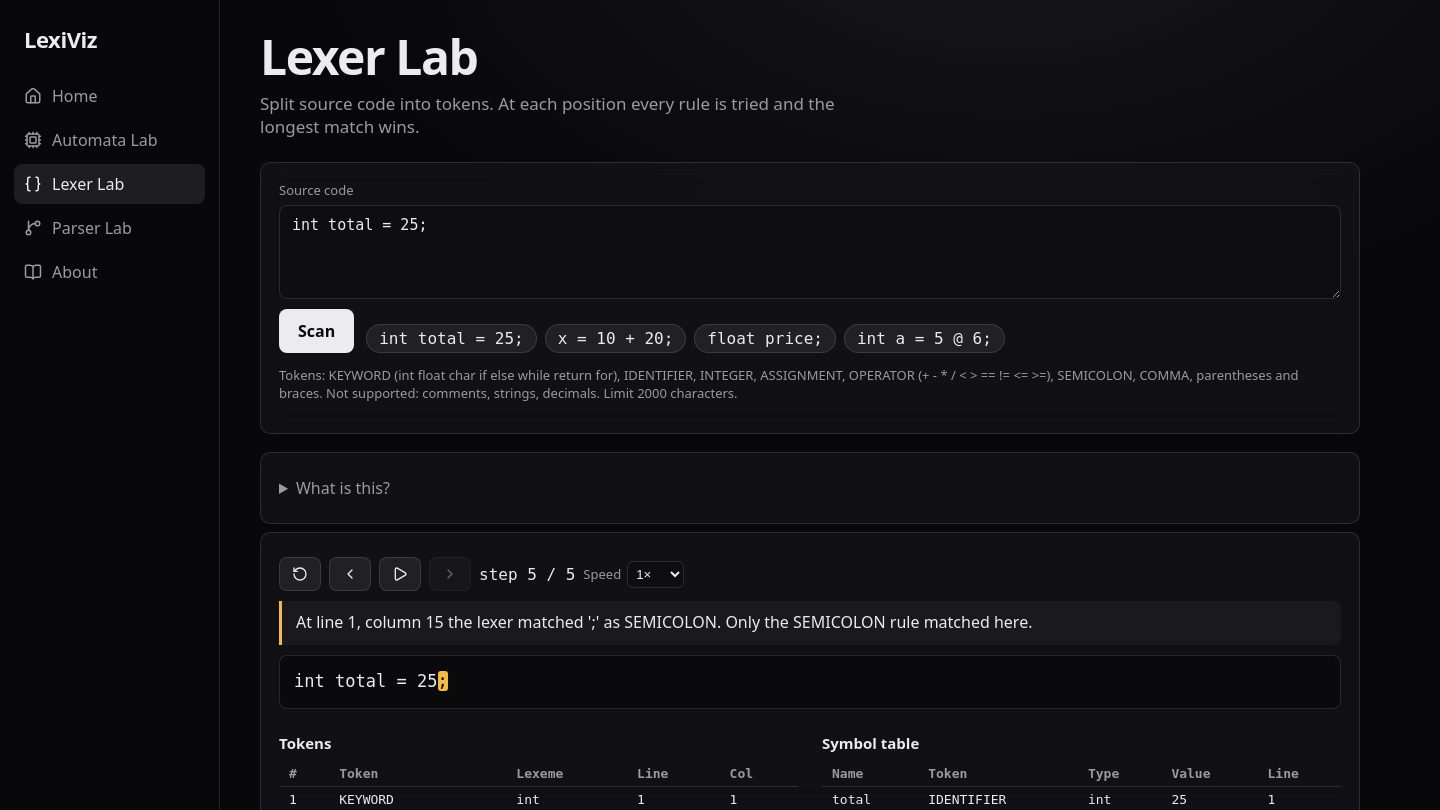
Test case: Lexer Lab › empty source shows a helpful message
The image size is (1440, 810).
Clear the text box labelled "Source code" at (810,252), box top-left (279, 205), bottom-right (1341, 299)
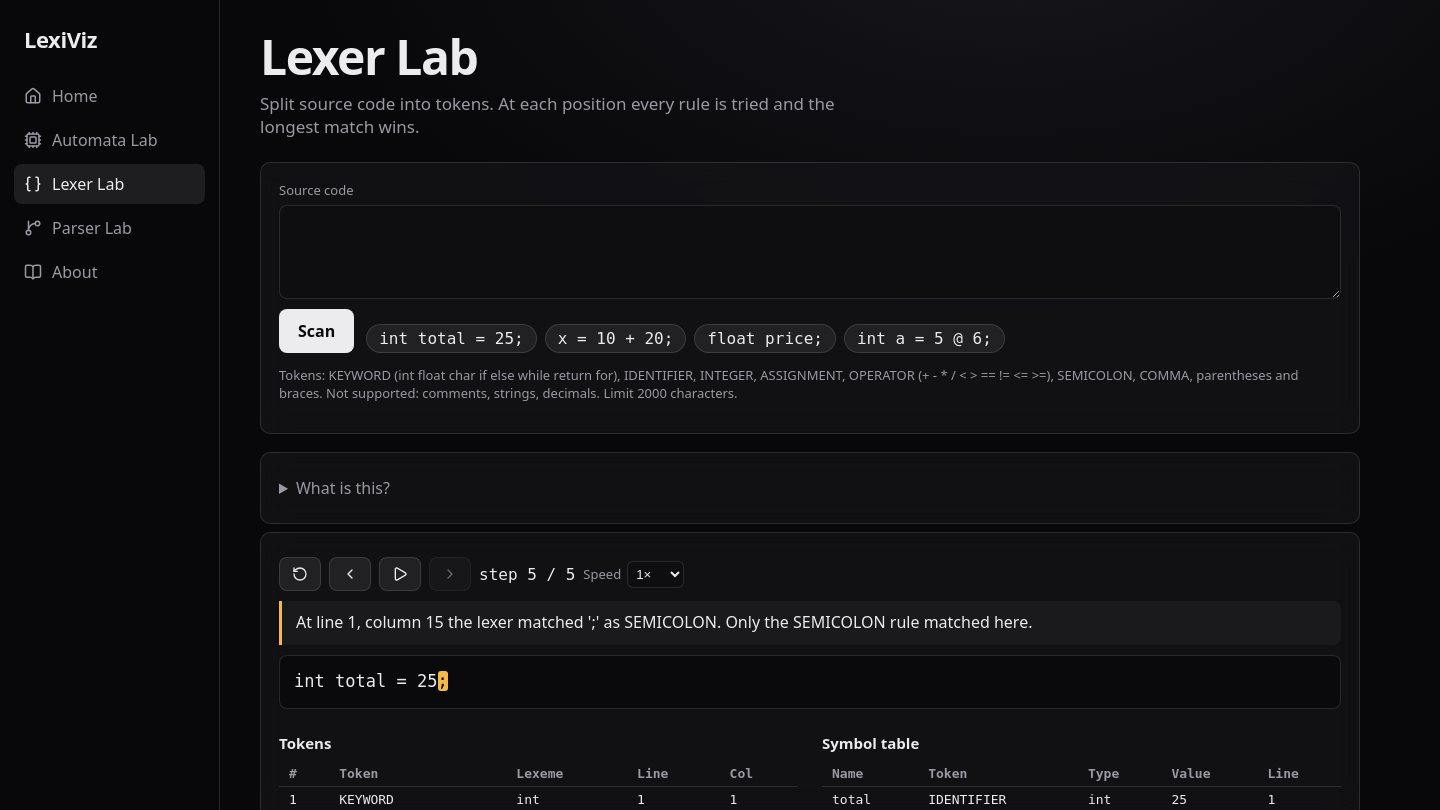
Click the button "Scan" at (317,331), box top-left (279, 309), bottom-right (354, 353)
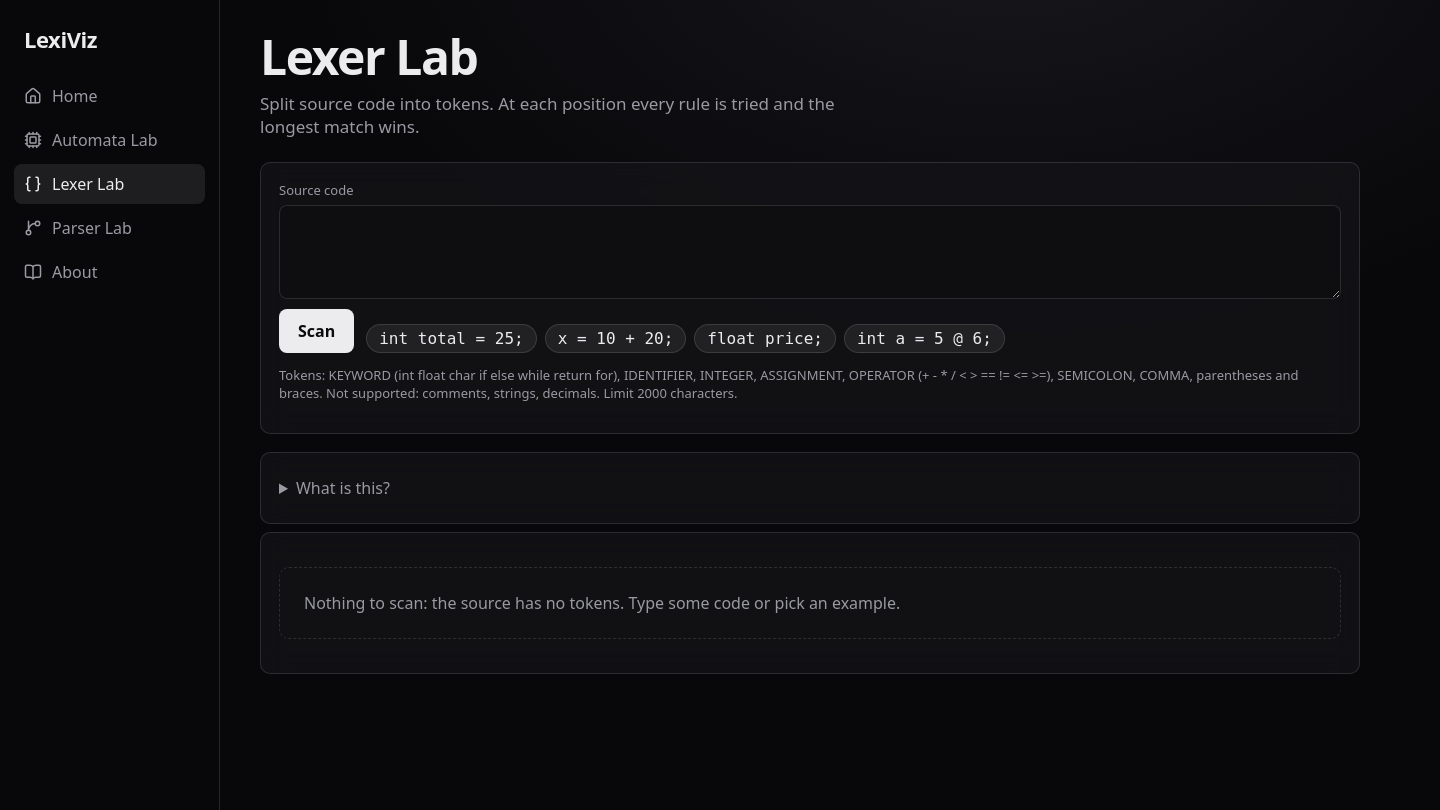
Now the message shows "Nothing to scan", box top-left (304, 592), bottom-right (900, 614)
